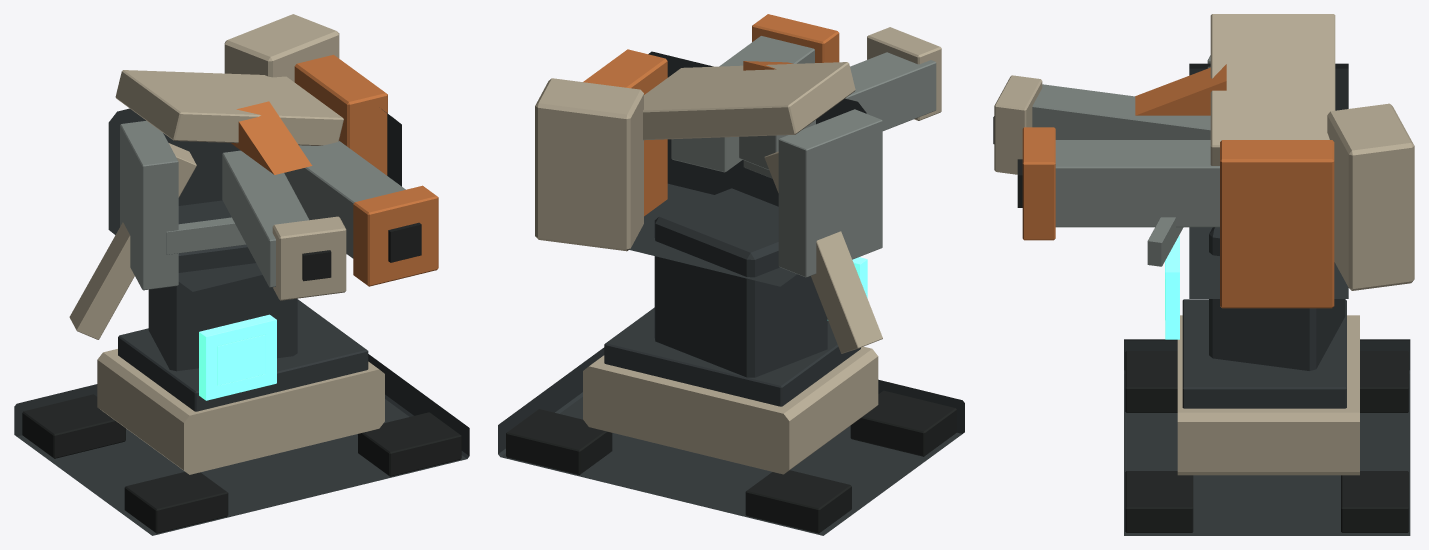
The model's file is intact.glb.
The picture shows the model from 3 angles, left to right: view 1: azimuth 30°, elevation 25°; view 2: azimuth 150°, elevation 25°; view 3: azimuth 270°, elevation 25°; orthographic projection. The views are drawn at different scales.
Visible parts, largest first — view 1: ROLE_secondary, ROLE_primary, ROLE_bareMetal, ROLE_rubber, ROLE_accent, ROLE_interaction; view 2: ROLE_secondary, ROLE_primary, ROLE_bareMetal, ROLE_rubber, ROLE_accent; view 3: ROLE_secondary, ROLE_primary, ROLE_accent, ROLE_bareMetal, ROLE_rubber, ROLE_interaction.
Boxes of the visible parts, x1,y1,x2,y2 form: ROLE_secondary: (69,14,384,474); ROLE_primary: (14,108,469,535); ROLE_bareMetal: (120,120,405,290); ROLE_rubber: (22,222,461,533); ROLE_accent: (231,54,438,286); ROLE_interaction: (199,314,276,400); ROLE_secondary: (535,27,941,474); ROLE_primary: (498,51,964,535); ROLE_bareMetal: (671,36,936,277); ROLE_rubber: (506,390,956,533); ROLE_accent: (583,14,839,216); ROLE_secondary: (994,14,1414,475); ROLE_primary: (1124,63,1410,535); ROLE_accent: (1022,64,1334,308); ROLE_bareMetal: (1032,55,1219,266); ROLE_rubber: (993,116,1408,532); ROLE_interaction: (1165,235,1179,339).
Size of the model in its own units: 4.8 by 5.4 by 5.2.
